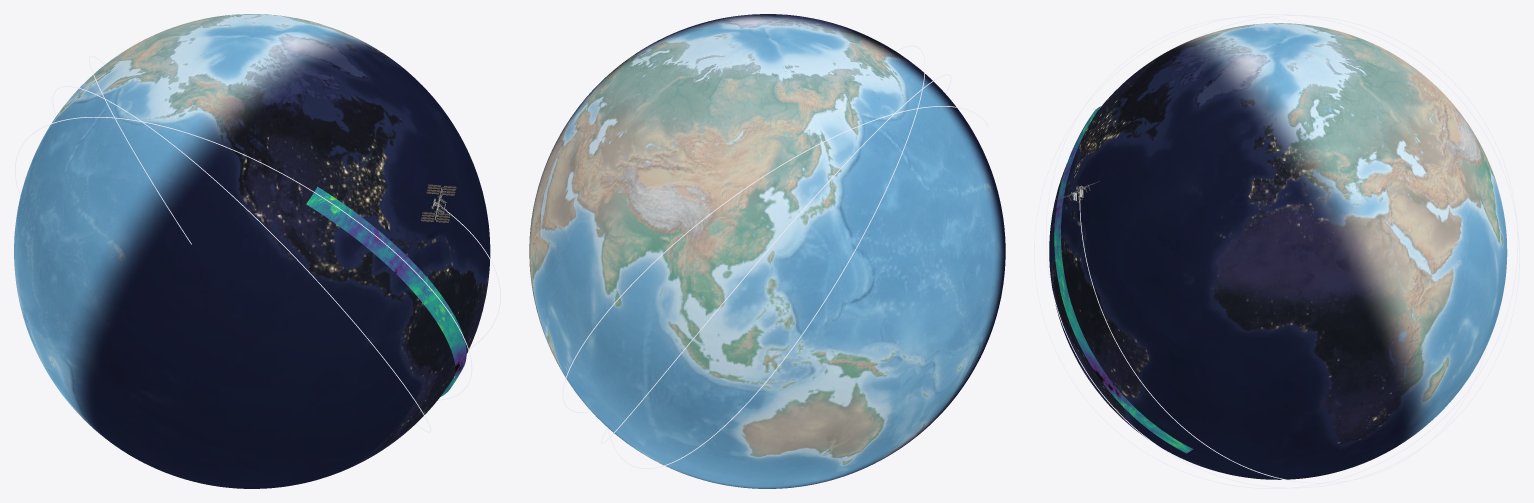
The model's file is awe-iss-globe-may2024-mobile.glb.
The picture shows the model from 3 angles, left to right: view 1: azimuth 30°, elevation 25°; view 2: azimuth 150°, elevation 25°; view 3: azimuth 270°, elevation 25°; orthographic projection. The views are drawn at different scales.
Parts seen in each view (by area): view 1: AWE_globe_20240526_mobile_smoke, AWE_swath_20240526_mobile_smoke, iss_orbit_merged_mesh_20240526_mobile_smoke; view 2: AWE_globe_20240526_mobile_smoke, iss_orbit_merged_mesh_20240526_mobile_smoke; view 3: AWE_globe_20240526_mobile_smoke, iss_orbit_merged_mesh_20240526_mobile_smoke, AWE_swath_20240526_mobile_smoke.
Boxes of the visible parts, x1=… form: AWE_globe_20240526_mobile_smoke: x1=14, y1=14, x2=490, y2=488; AWE_swath_20240526_mobile_smoke: x1=306, y1=186, x2=466, y2=396; iss_orbit_merged_mesh_20240526_mobile_smoke: x1=15, y1=55, x2=500, y2=432; AWE_globe_20240526_mobile_smoke: x1=529, y1=14, x2=1005, y2=488; iss_orbit_merged_mesh_20240526_mobile_smoke: x1=562, y1=45, x2=988, y2=468; AWE_globe_20240526_mobile_smoke: x1=1049, y1=23, x2=1507, y2=479; iss_orbit_merged_mesh_20240526_mobile_smoke: x1=1034, y1=14, x2=1519, y2=488; AWE_swath_20240526_mobile_smoke: x1=1054, y1=106, x2=1193, y2=453.
Bounding box in the file's own units: 1.28 × 1.27 × 1.35.
Materials: 29 (27 with a texture image).
